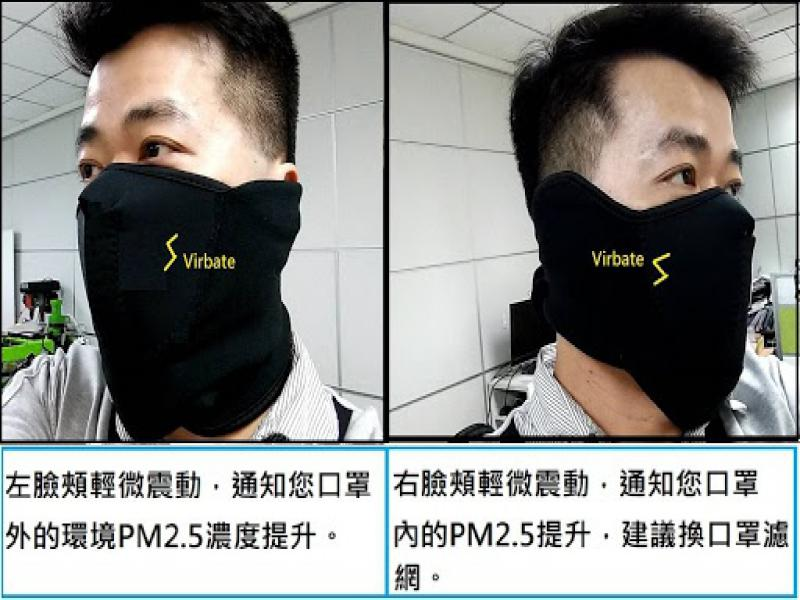good: (75, 86, 287, 402), (592, 120, 750, 402)
